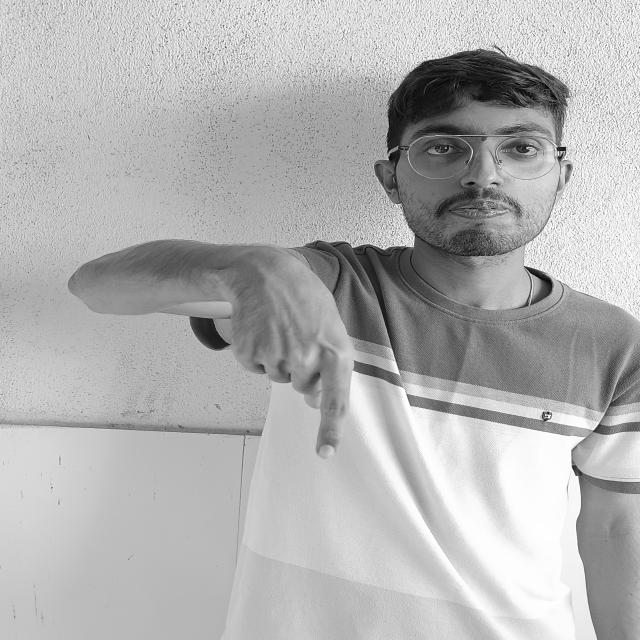Now: (152, 239, 409, 464)
